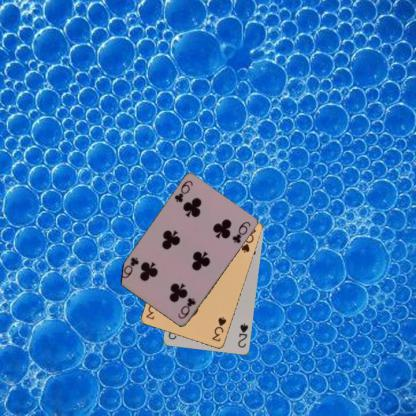2s: (235, 321, 250, 349)
3s: (209, 314, 228, 344)
6c: (175, 295, 198, 321), (172, 178, 194, 204)
